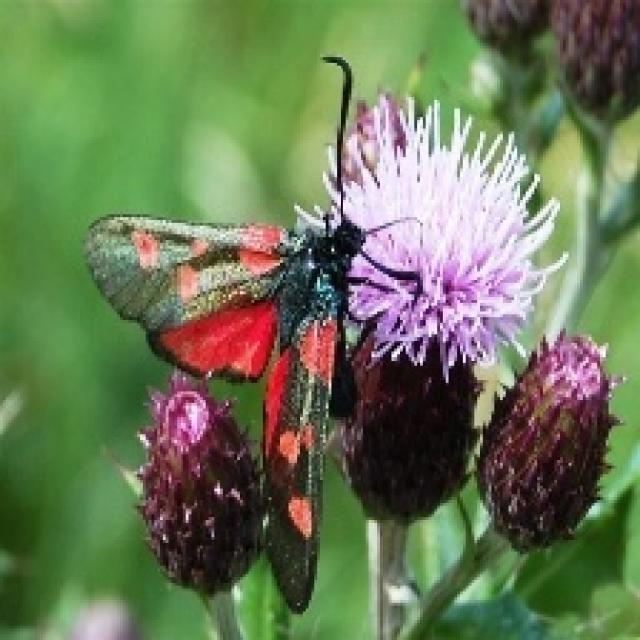butterfly: (80, 51, 423, 612)
